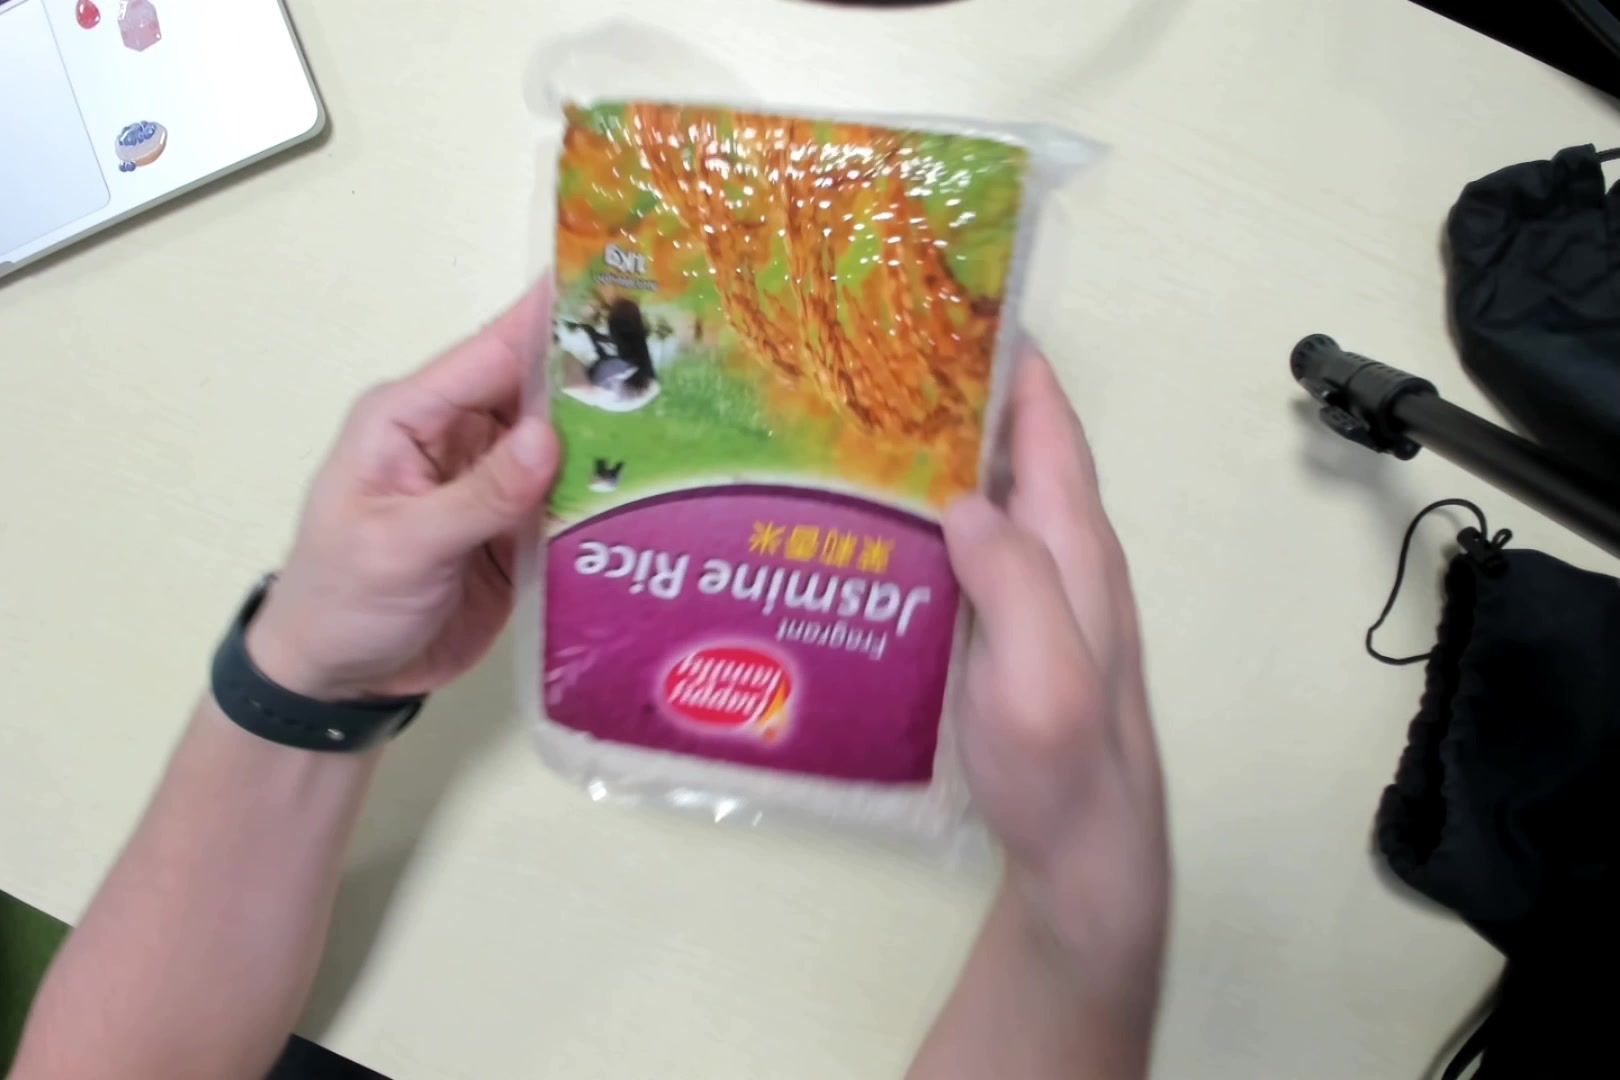Rice(White)_1000-1999g_NonHalal_NonHealthy: (520, 45, 1031, 839)
